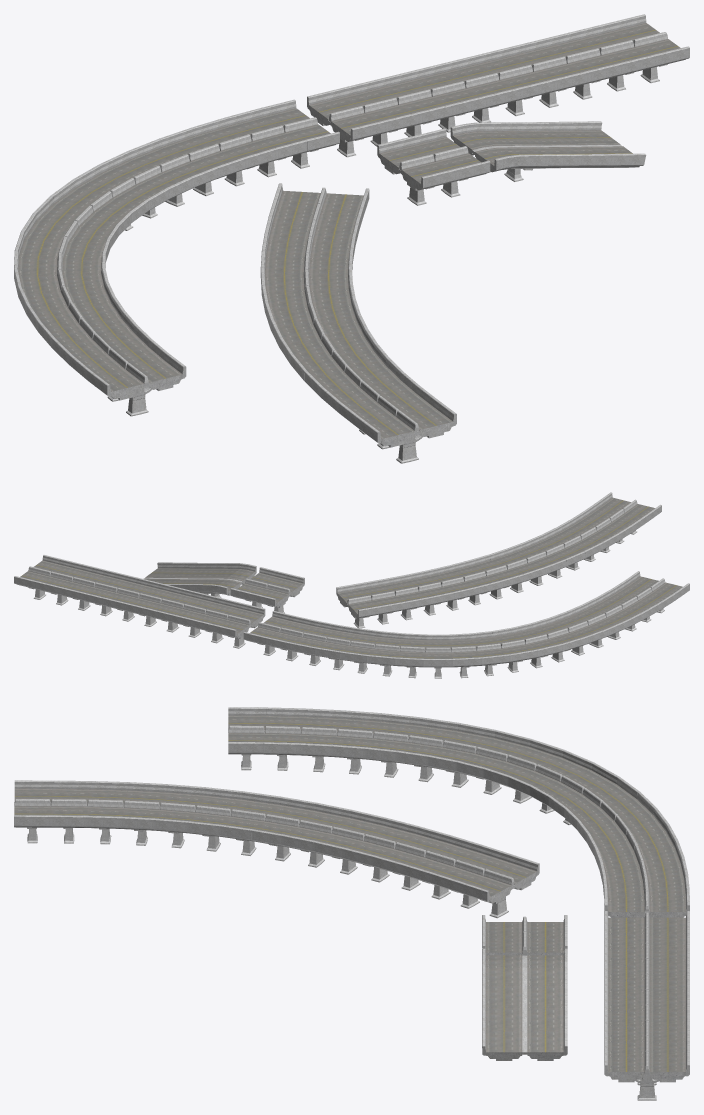
Rendered from bridge-modular.glb.
3 views of the same model, one above another, from view 1: azimuth 30°, elevation 25°; view 2: azimuth 150°, elevation 25°; view 3: azimuth 270°, elevation 25° (orthographic). The views are drawn at different scales.
Parts seen in each view (by area): view 1: Plane_0, Plane.003_3, Plane.001_1, Plane.004_4, Plane.002_2; view 2: Plane_0, Plane.003_3, Plane.001_1, Plane.004_4, Plane.002_2; view 3: Plane_0, Plane.003_3, Plane.001_1, Plane.004_4, Plane.002_2.
Boxes of the visible parts, x1,y1,x2,y2 form: Plane_0: (14,99,339,416); Plane.003_3: (260,183,456,463); Plane.001_1: (307,14,689,157); Plane.004_4: (450,121,646,181); Plane.002_2: (377,128,490,205); Plane_0: (243,571,689,678); Plane.003_3: (336,492,661,628); Plane.001_1: (14,555,265,648); Plane.004_4: (143,562,256,597); Plane.002_2: (230,567,304,613); Plane_0: (228,707,689,917); Plane.003_3: (14,780,539,918); Plane.001_1: (604,911,689,1100); Plane.004_4: (482,948,567,1060); Plane.002_2: (482,915,567,955).
Size of the model in its own units: 46.44 by 2.86 by 37.03.
Materials: 2 (2 with a texture image).
